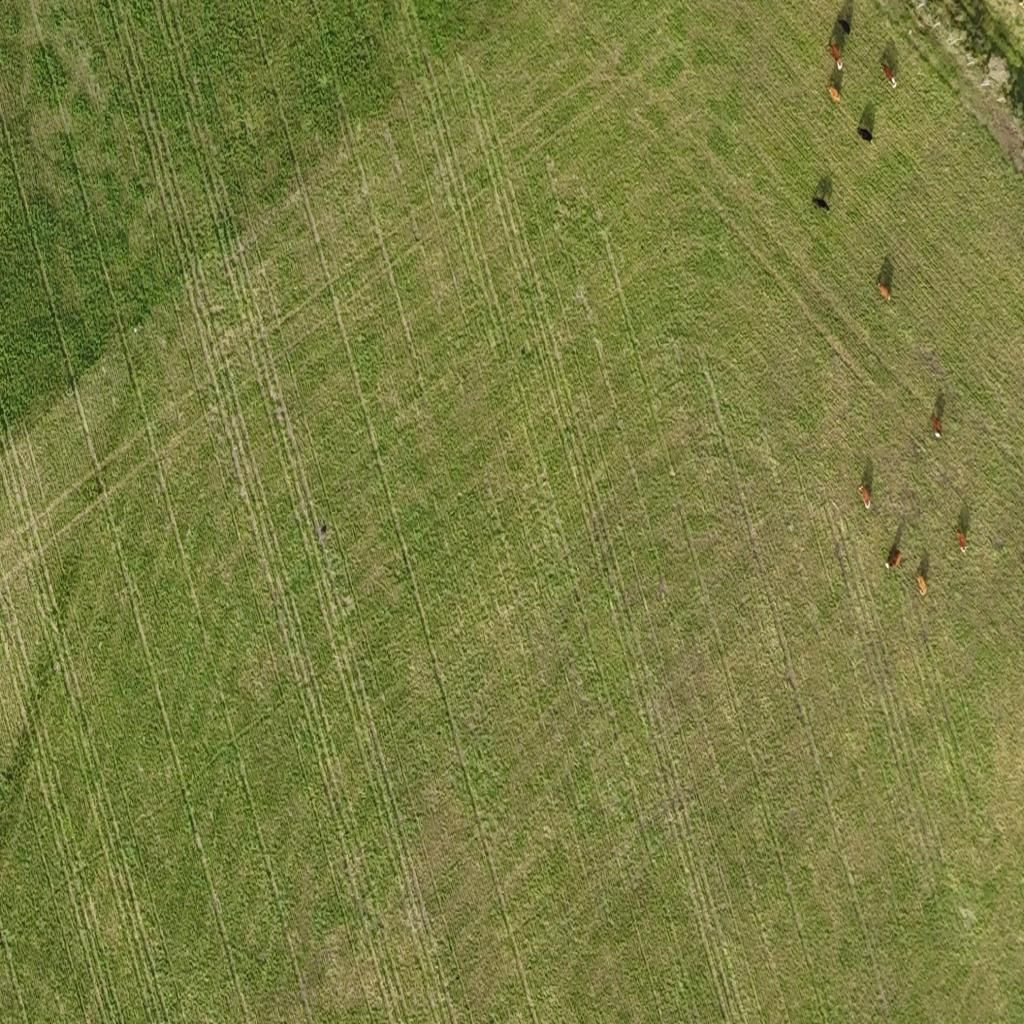cow: (812, 186, 831, 218), (875, 273, 892, 308), (954, 520, 968, 560), (836, 10, 854, 38), (828, 43, 844, 72), (914, 566, 927, 599), (880, 59, 895, 86), (859, 476, 871, 508), (857, 122, 873, 145), (887, 549, 902, 572), (931, 414, 942, 438), (828, 88, 842, 105)
